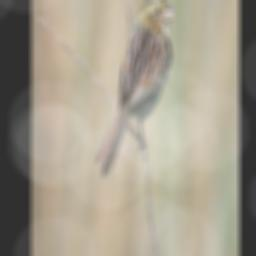Sparrow: (92, 0, 177, 182)
